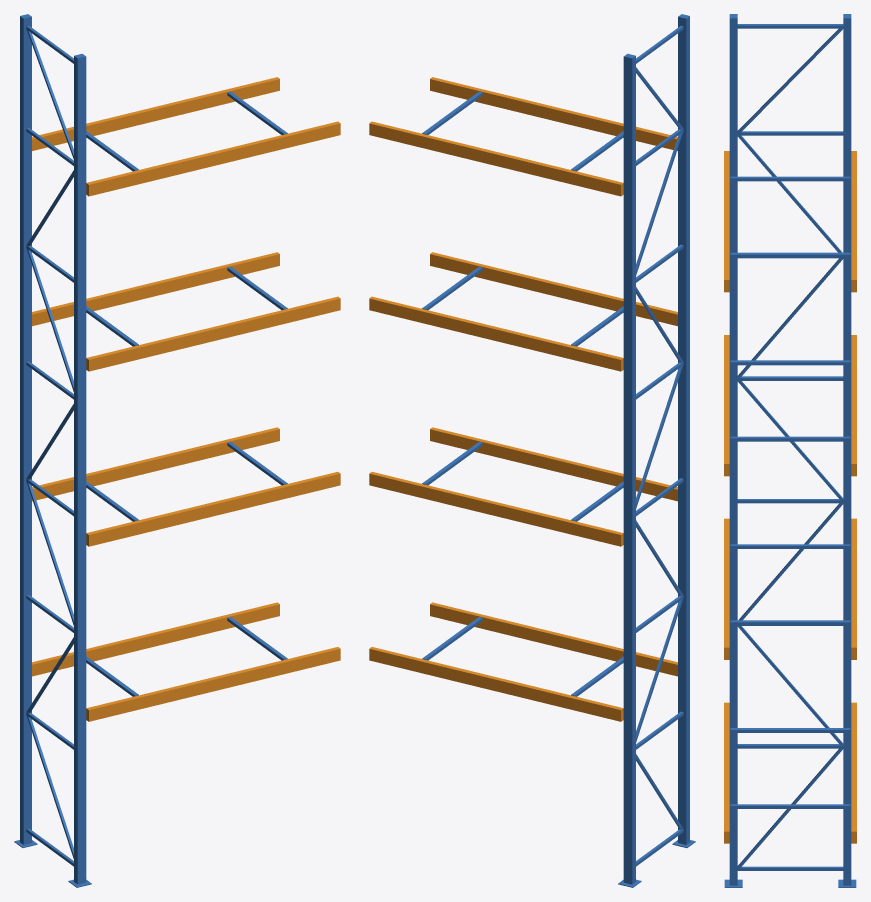
File: SM_PalletRackBay.fbx
The picture shows the model from 3 angles, left to right: view 1: azimuth 30°, elevation 25°; view 2: azimuth 150°, elevation 25°; view 3: azimuth 270°, elevation 25°; orthographic projection. The views are drawn at different scales.
Parts seen in each view (by area): view 1: PR_PalletRackBay; view 2: PR_PalletRackBay; view 3: PR_PalletRackBay.
Part boxes in pixels (box(x1,y1,x2,y2)): PR_PalletRackBay: box(14, 14, 340, 887); PR_PalletRackBay: box(369, 14, 695, 887); PR_PalletRackBay: box(724, 14, 856, 887).
Bounding box in the file's own units: 284 × 850 × 118.
